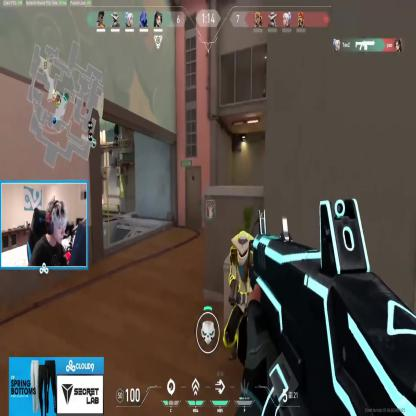enemy: (222, 229, 261, 368)
enemy_head: (237, 232, 248, 264)
